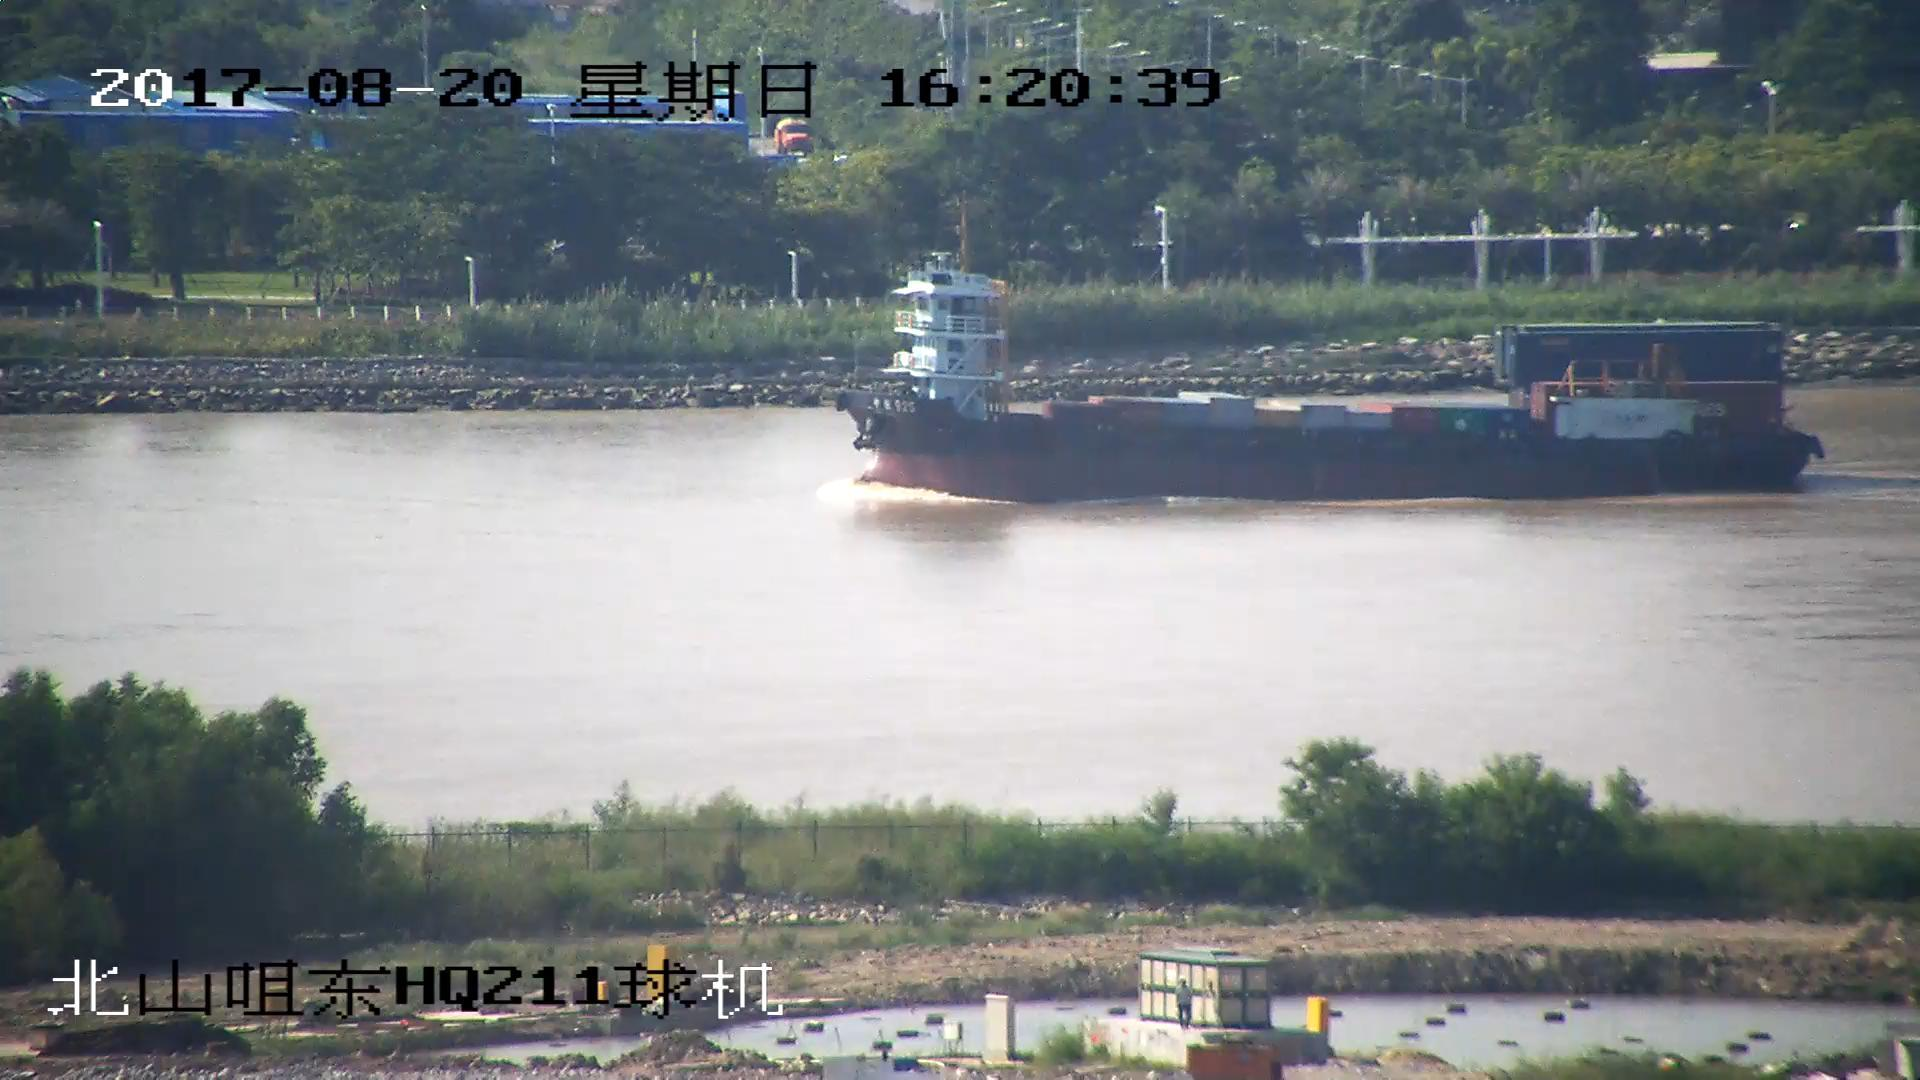Ship: (845, 218, 1826, 508)
